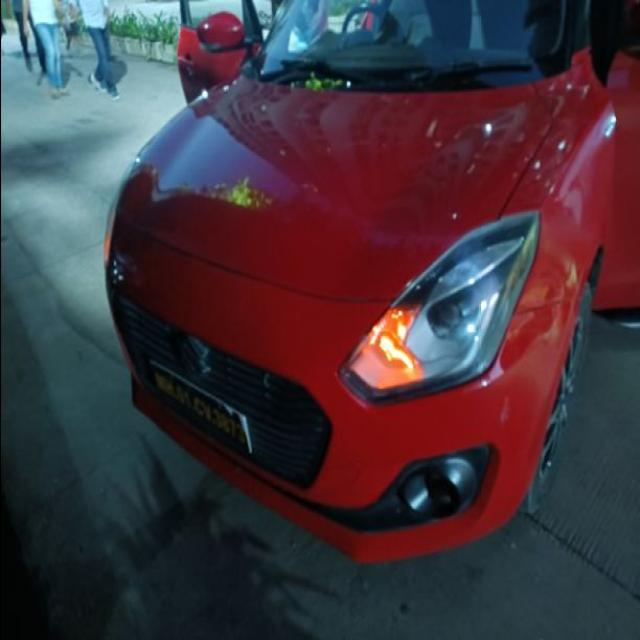license_plate: (145, 356, 253, 458)
